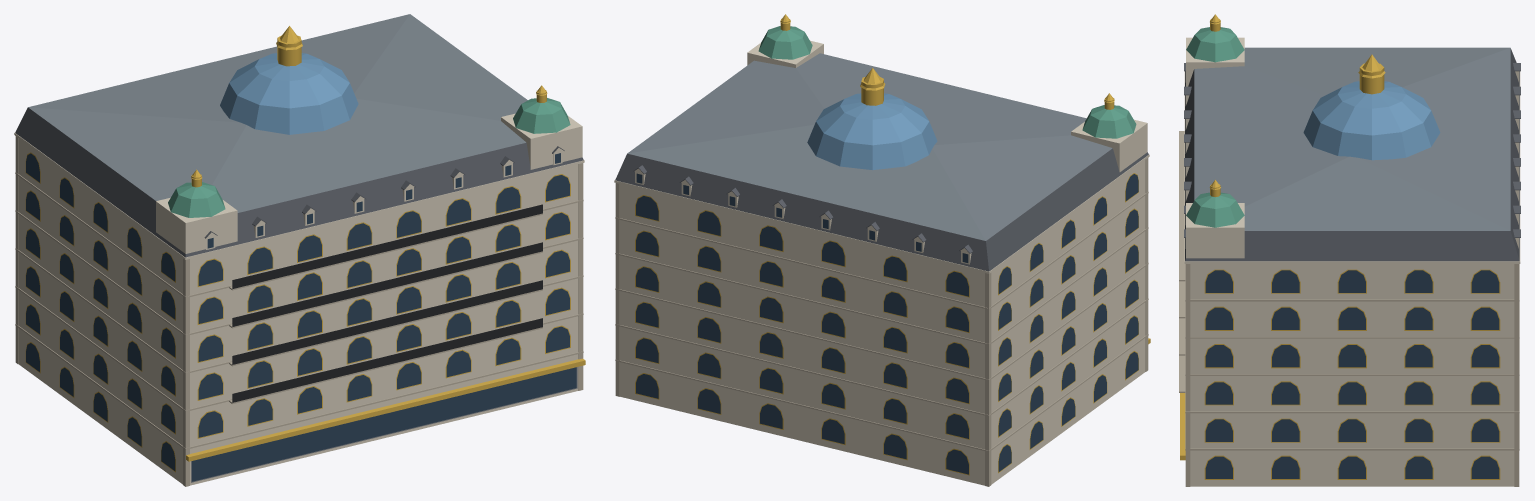
Rendered from grand_magasin.glb.
3 renders of one model, left to right at view 1: azimuth 30°, elevation 25°; view 2: azimuth 150°, elevation 25°; view 3: azimuth 270°, elevation 25°, orthographic. The views are drawn at different scales.
Visible parts, largest first — view 1: grand_magasin; view 2: grand_magasin; view 3: grand_magasin.
Boxes of the visible parts, x1,y1,x2,y2 form: grand_magasin: (14, 14, 585, 486); grand_magasin: (614, 14, 1150, 486); grand_magasin: (1179, 14, 1520, 486).
Size of the model in its own units: 46.3 by 38.05 by 34.91.
Materials: 1 (1 with a texture image).
